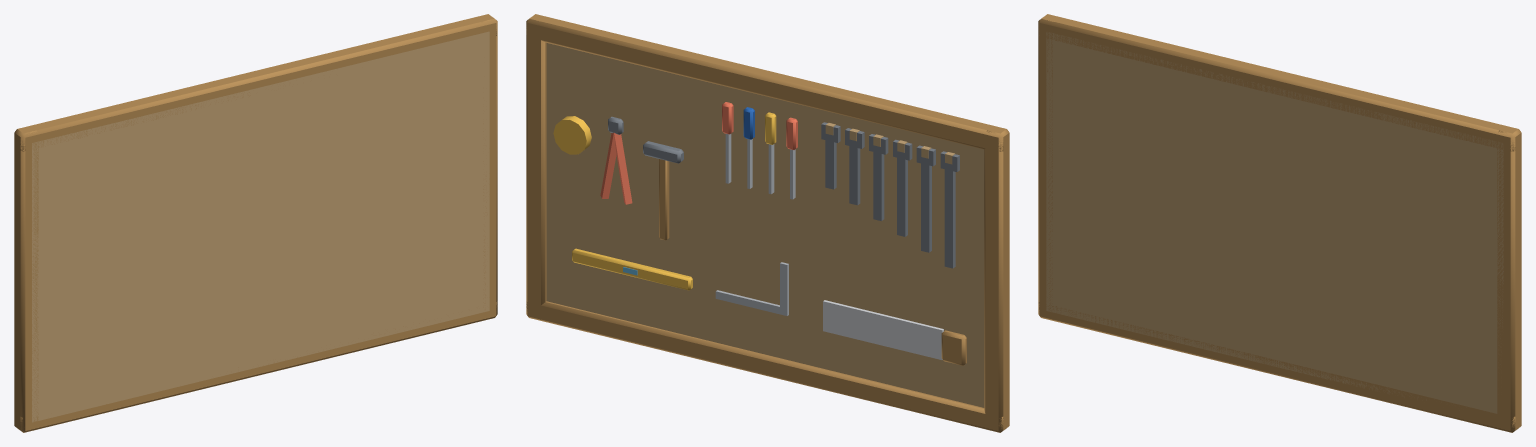
File: pegboard.glb
3 views of the same model, side by side, from view 1: azimuth 30°, elevation 25°; view 2: azimuth 150°, elevation 25°; view 3: azimuth 330°, elevation 25° (orthographic).
Parts seen in each view (by area): view 1: body; view 2: body; view 3: body.
Boxes of the visible parts, box(x1,y1,x2,y2) form: body: box(14, 14, 497, 432); body: box(526, 14, 1009, 432); body: box(1038, 14, 1521, 432).
Bounding box in the file's own units: 2 × 1.2 × 0.087.
